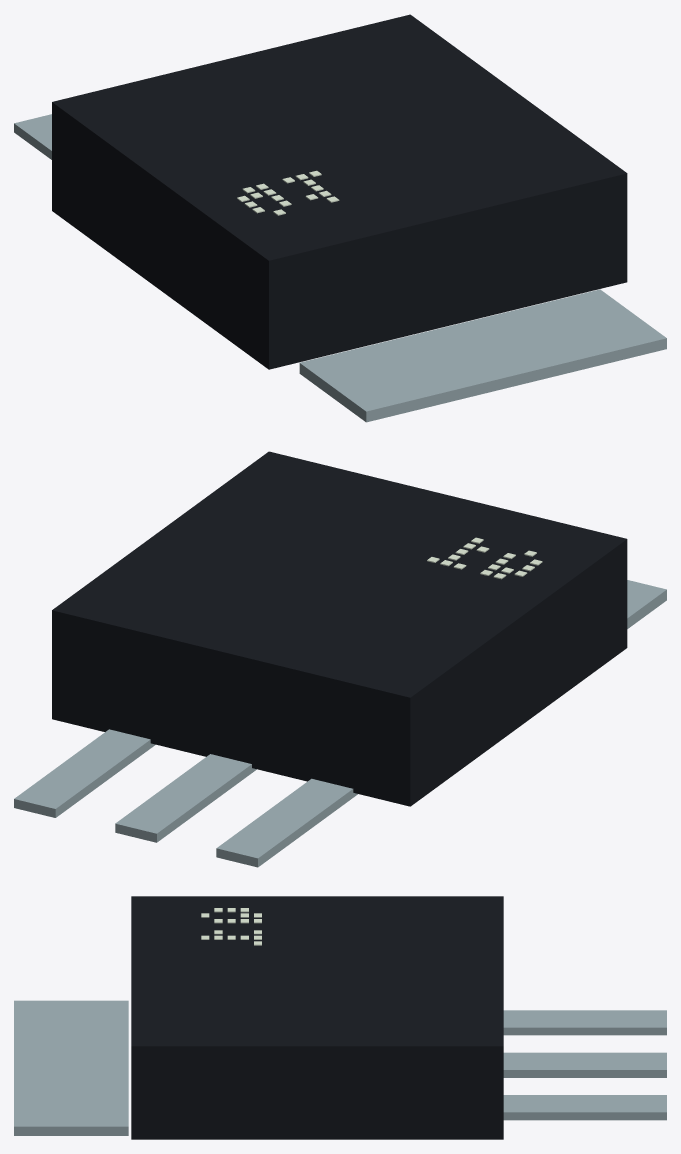
Rendered from 09_L97_Q1_MOSFET.fbx.
3 renders of one model, top to bottom at view 1: azimuth 30°, elevation 25°; view 2: azimuth 150°, elevation 25°; view 3: azimuth 270°, elevation 25°, orthographic. The views are drawn at different scales.
Parts seen in each view (by area): view 1: Q1_mold, Q1_heat_tab, Q1_leg_0; view 2: Q1_mold, Q1_leg_0, Q1_leg_1, Q1_leg_2, Q1_heat_tab; view 3: Q1_mold, Q1_heat_tab, Q1_leg_0, Q1_leg_1, Q1_leg_2.
Boxes of the visible parts, x1,y1,x2,y2 form: Q1_mold: (52, 14, 627, 369); Q1_heat_tab: (299, 289, 666, 422); Q1_leg_0: (14, 114, 51, 159); Q1_mold: (52, 451, 627, 806); Q1_leg_0: (216, 778, 357, 867); Q1_leg_1: (115, 754, 256, 842); Q1_leg_2: (14, 729, 155, 817); Q1_heat_tab: (627, 580, 666, 628); Q1_mold: (131, 896, 503, 1139); Q1_heat_tab: (14, 1000, 128, 1135); Q1_leg_0: (503, 1010, 666, 1035); Q1_leg_1: (503, 1052, 666, 1077); Q1_leg_2: (503, 1095, 666, 1120).
Size of the model in its own units: 0.0062 by 0.00203 by 0.0114.
